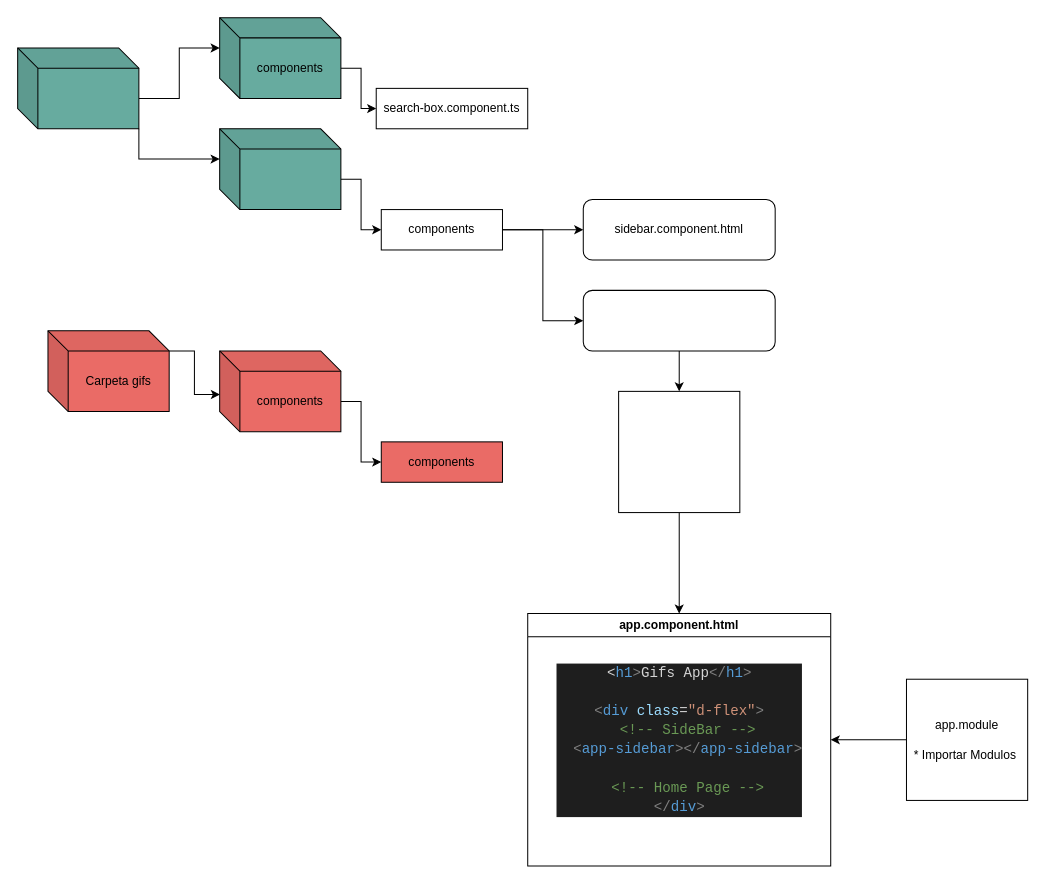
The diagram is 1045 pixels wide and 884 high, and some of its shapes have lost their labels. Each missing label, with the centre of its shape:
"Carpeta shared" goes at [78,88].
"page" goes at [280,169].
"shared.module * Exportar modulos" goes at [679,451].
"sidebar.component.ts selector : 'app-sidebar'" goes at [678,320].
